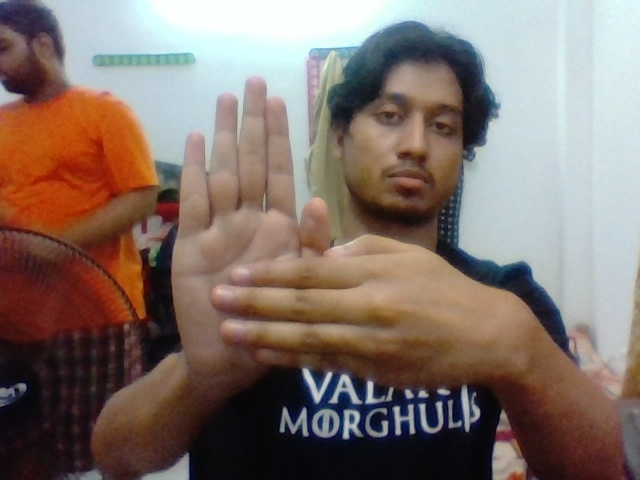H: (169, 59, 480, 397)
